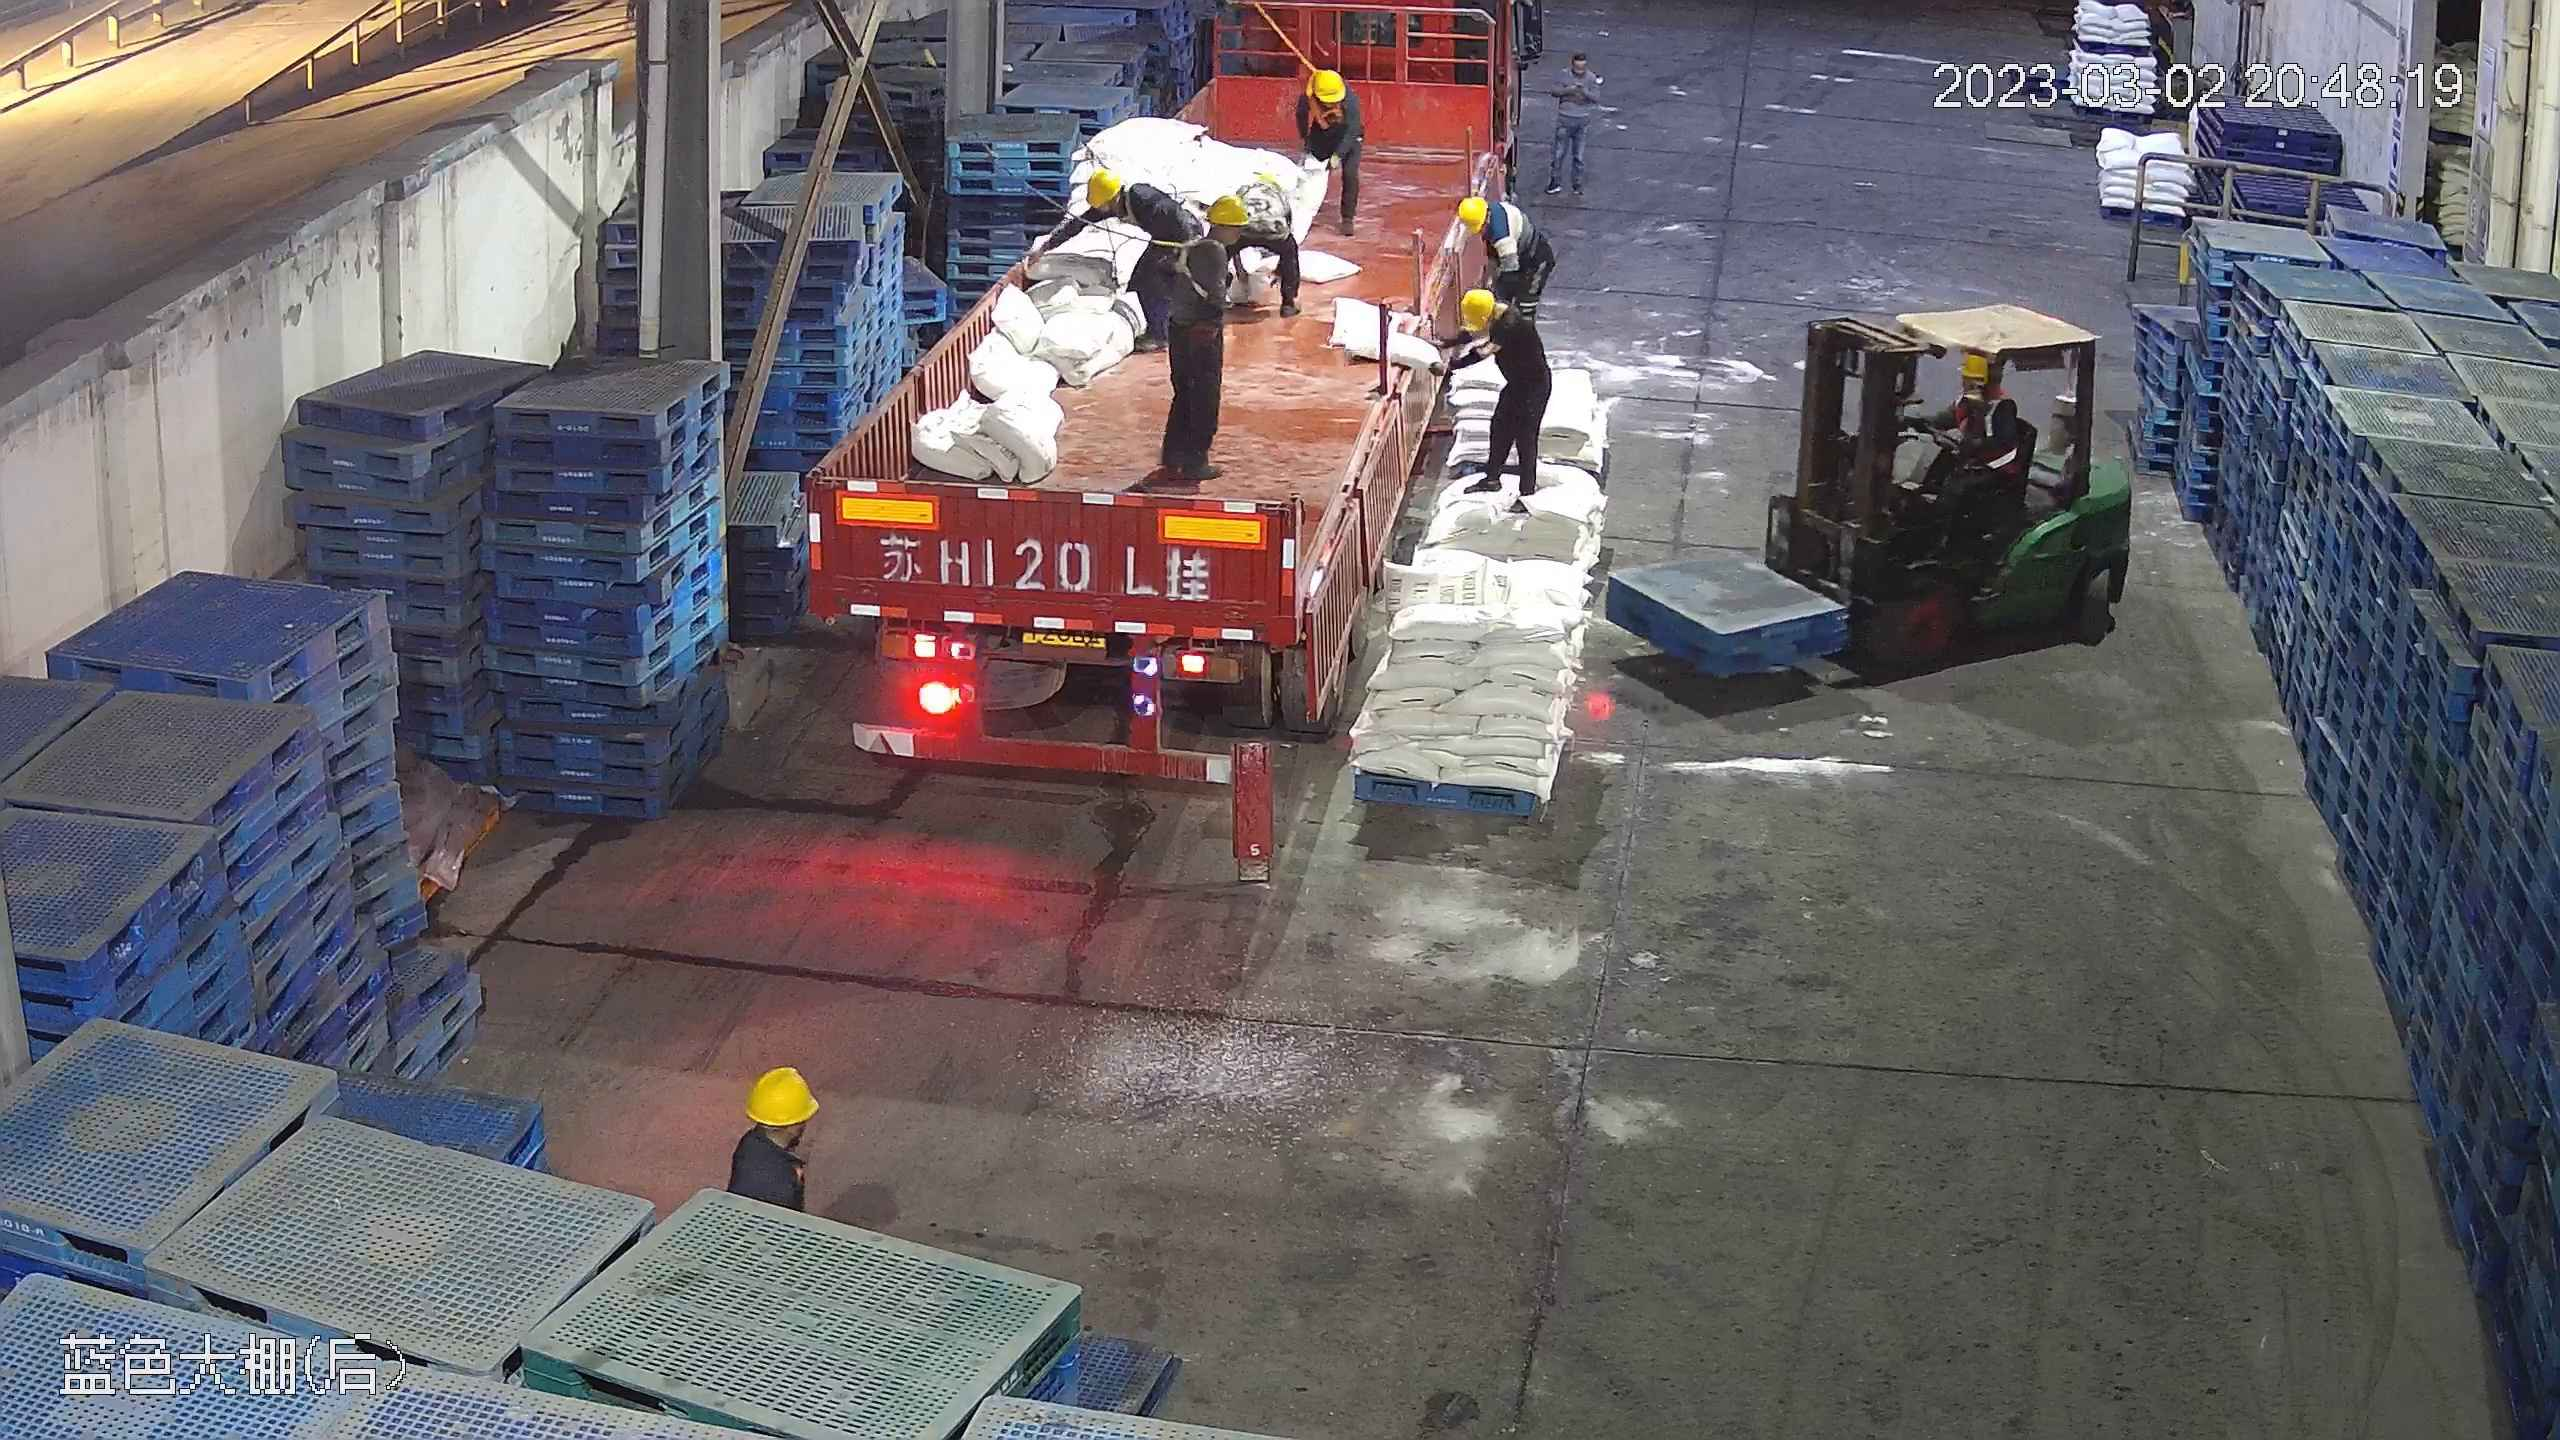belt: (1165, 229, 1236, 296), (1303, 65, 1346, 132), (1241, 183, 1285, 222), (1110, 181, 1142, 227)
head: (720, 1063, 837, 1197), (1160, 190, 1247, 282), (1452, 288, 1539, 366), (1086, 167, 1174, 239), (1946, 352, 2015, 434), (1450, 192, 1530, 256), (1296, 69, 1360, 132), (1560, 50, 1601, 103)
helmet: (742, 1062, 822, 1125), (1201, 189, 1253, 227), (1458, 289, 1499, 328), (1083, 167, 1122, 210), (1306, 68, 1343, 105), (1455, 193, 1487, 229), (1959, 352, 1996, 381)
people: (1146, 189, 1252, 490), (1901, 350, 2024, 537), (1445, 286, 1551, 502), (1444, 186, 1552, 312), (1293, 66, 1368, 234), (1552, 43, 1602, 196)
truck: (814, 59, 1521, 792)
